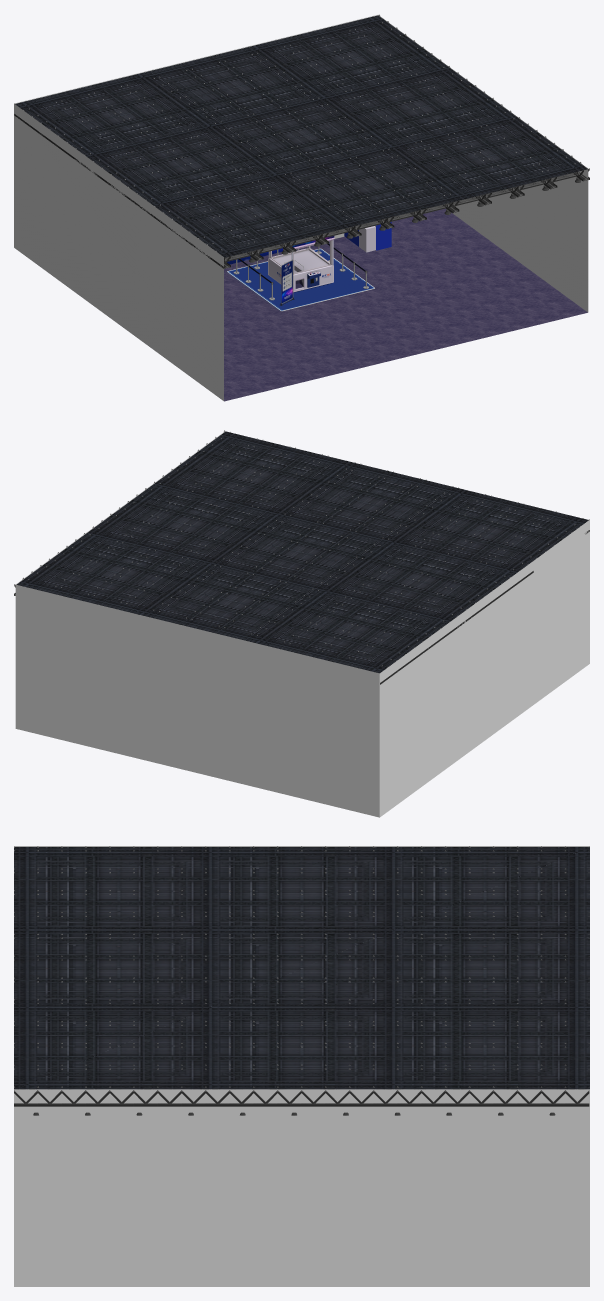
The model's file is ETRI.fbx.
3 views of the same model, one above another, from view 1: azimuth 30°, elevation 25°; view 2: azimuth 150°, elevation 25°; view 3: azimuth 270°, elevation 25° (orthographic). The views are drawn at different scales.
Visible parts, largest first — view 1: ETRI_Roof, ETRI_MainBooth_Wall, ETRI_Floor, ETRI_MainBooth_Rail01, ETRI_Props_Floor, ETRI_Props_Gatcha, ETRI_Props_Booth01, ETRI_Props_Rail, ETRI_Props_Banner; view 2: ETRI_MainBooth_Wall, ETRI_Roof, ETRI_MainBooth_Rail01; view 3: ETRI_Roof, ETRI_MainBooth_Wall, ETRI_MainBooth_Rail01.
Boxes of the visible parts, <box> form: ETRI_Roof: <box>15,15,587,257</box>; ETRI_MainBooth_Wall: <box>14,15,588,400</box>; ETRI_Floor: <box>224,208,587,401</box>; ETRI_MainBooth_Rail01: <box>14,14,589,268</box>; ETRI_Props_Floor: <box>227,248,374,311</box>; ETRI_Props_Gatcha: <box>268,236,334,292</box>; ETRI_Props_Booth01: <box>344,222,391,252</box>; ETRI_Props_Rail: <box>233,243,368,300</box>; ETRI_Props_Banner: <box>280,259,294,305</box>; ETRI_MainBooth_Wall: <box>15,431,589,817</box>; ETRI_Roof: <box>16,431,588,673</box>; ETRI_MainBooth_Rail01: <box>14,430,589,684</box>; ETRI_Roof: <box>14,847,589,1089</box>; ETRI_MainBooth_Wall: <box>14,846,589,1286</box>; ETRI_MainBooth_Rail01: <box>14,846,589,1106</box>.
Size of the model in its own units: 1613 by 607 by 1605.
